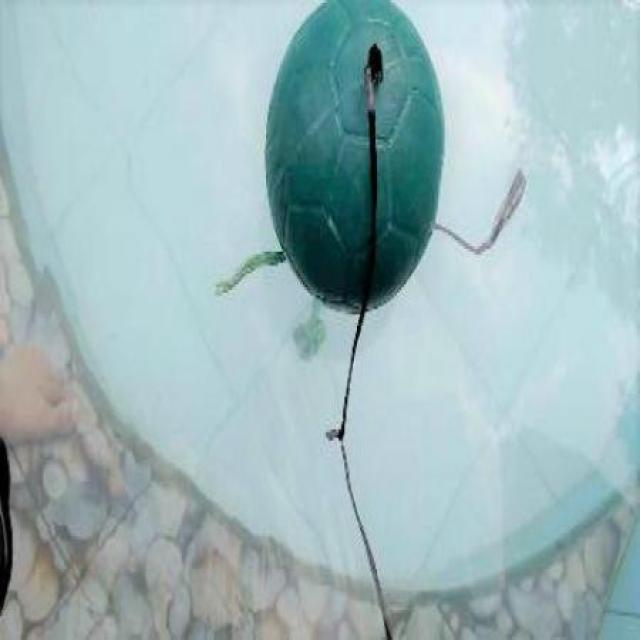buoy: (264, 0, 443, 311)
